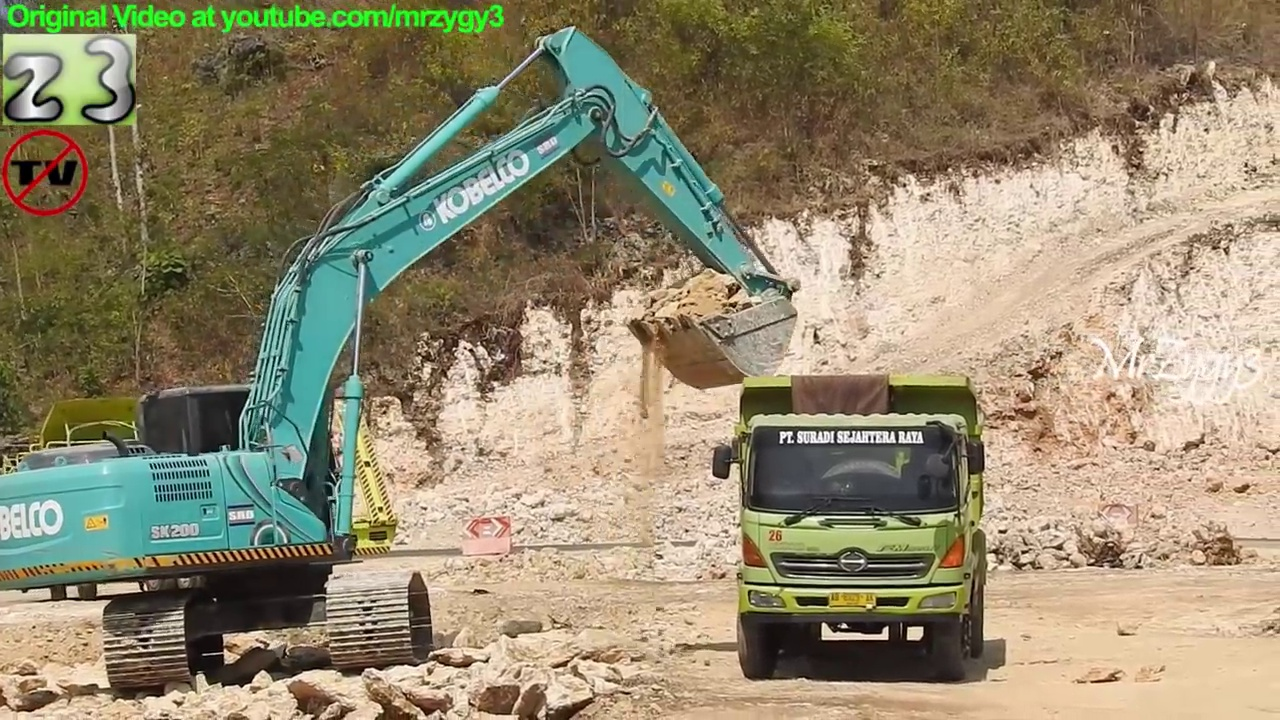excavator: (1, 23, 803, 695)
truck: (710, 369, 992, 685), (1, 387, 406, 605)
